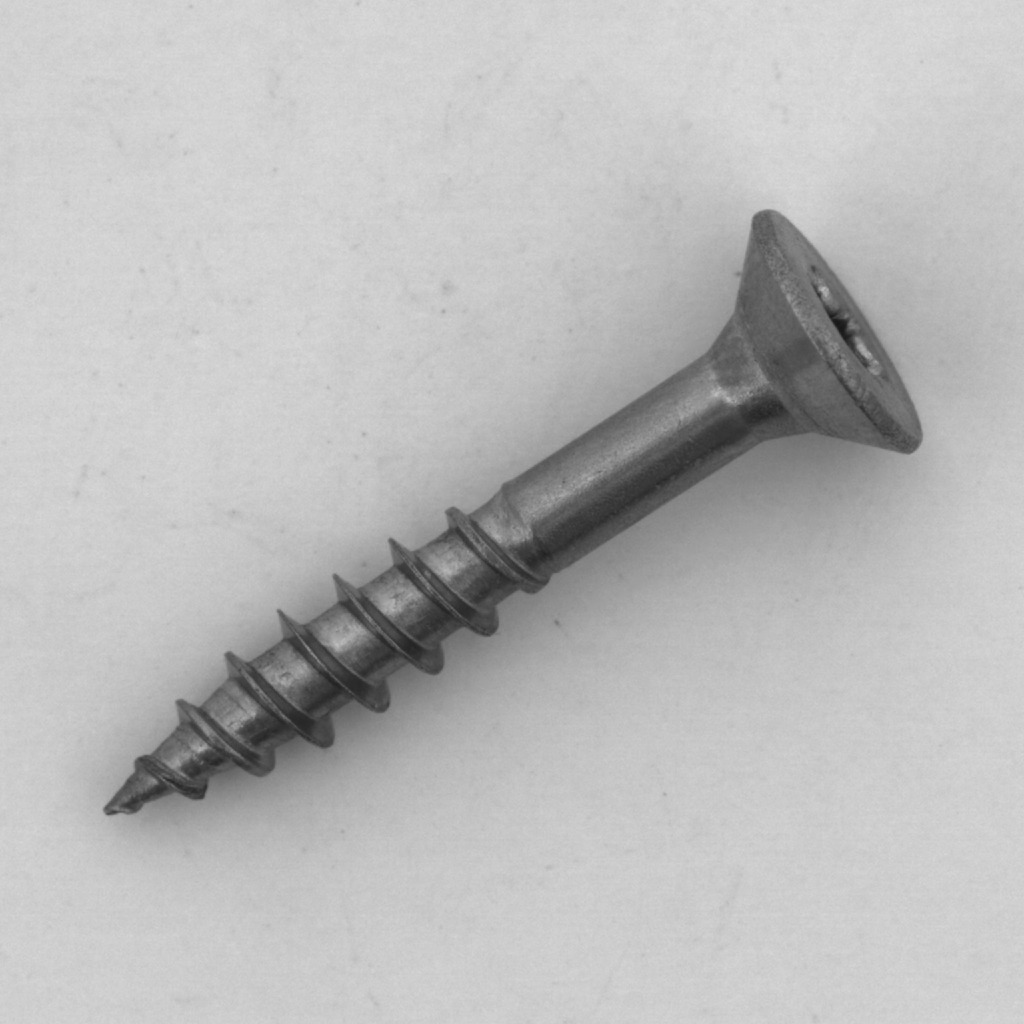good: (66, 194, 949, 841)
